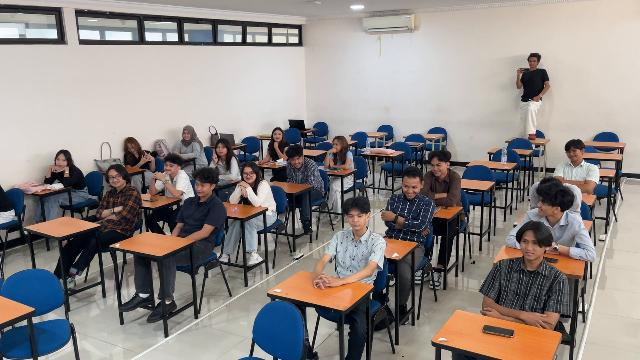senang: (521, 237, 540, 259), (402, 177, 420, 198), (537, 198, 552, 216), (348, 213, 364, 229), (566, 147, 583, 162), (430, 160, 445, 176), (195, 181, 209, 197), (109, 171, 123, 186), (56, 154, 68, 168), (242, 169, 256, 181), (164, 162, 177, 174), (291, 157, 303, 168), (216, 144, 226, 155), (273, 131, 283, 141), (183, 131, 191, 140), (332, 140, 340, 149)
